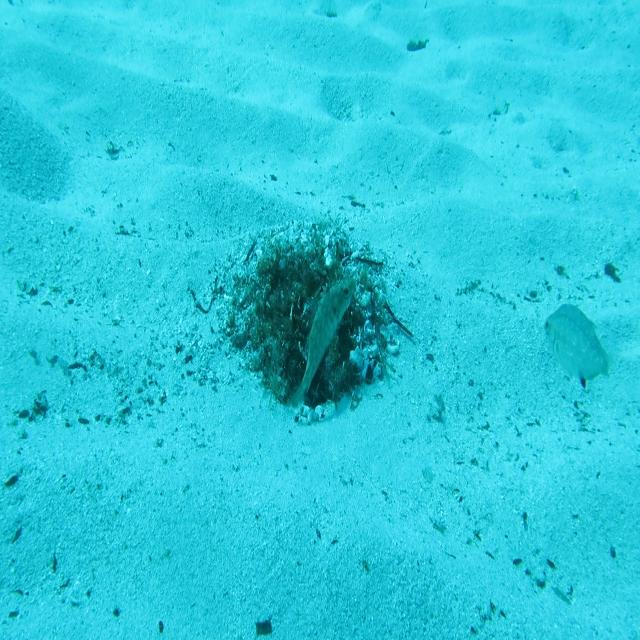LF: (290, 273, 358, 414)
core_nest: (282, 264, 322, 296)
female: (542, 299, 618, 397)
nest: (206, 210, 404, 440)
vegetation: (406, 36, 430, 56), (603, 262, 623, 285), (254, 617, 274, 637)
